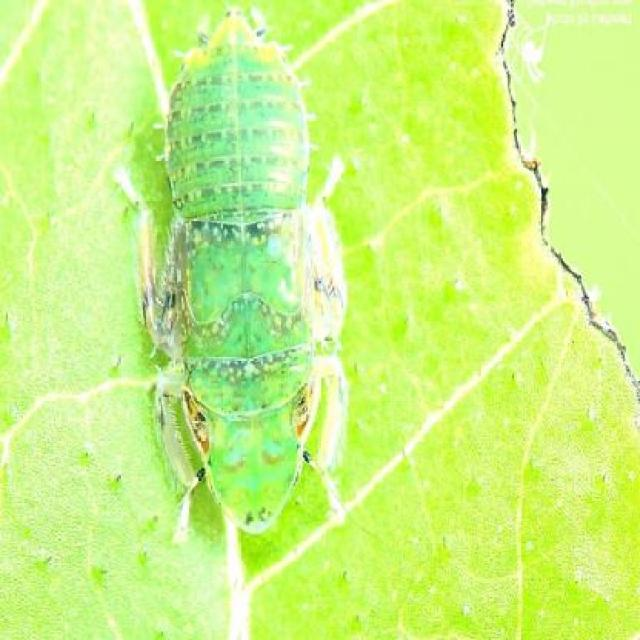green-leafhopper: (121, 32, 348, 517)
